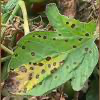Tomato Septoria leaf spot: (4, 3, 99, 98)
